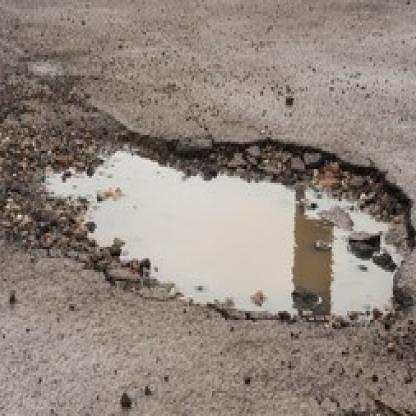pothole: (36, 126, 416, 334)
